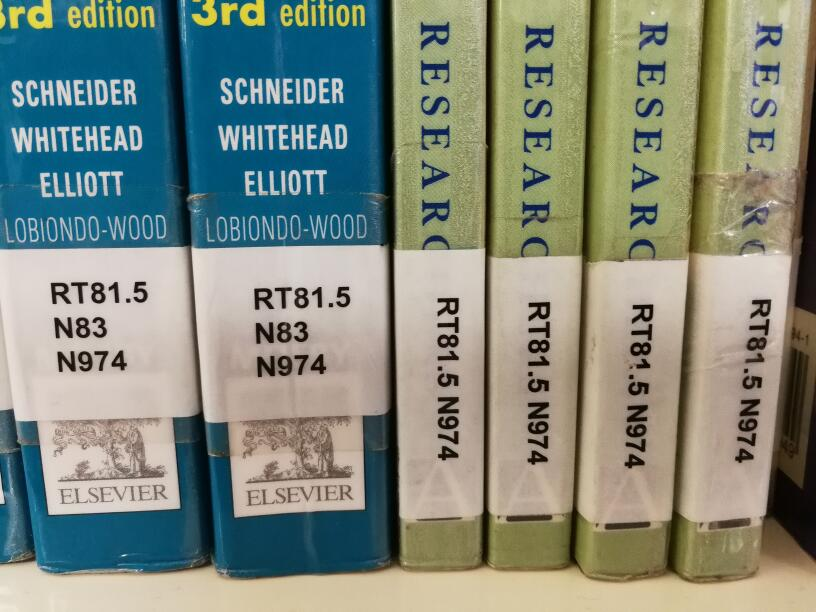booklabel: (47, 276, 155, 375), (249, 282, 354, 380), (733, 296, 774, 466), (621, 297, 656, 472), (432, 294, 464, 463), (525, 294, 553, 466)
